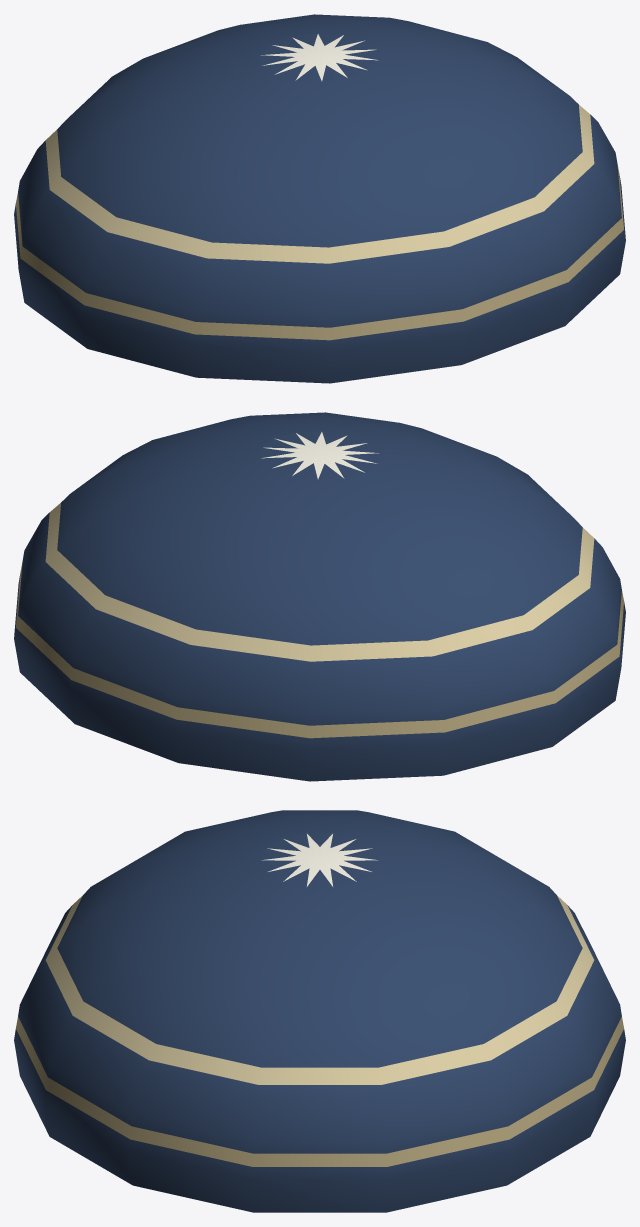
Rendered from kipaa.fbx.
The picture shows the model from 3 angles, top to bottom: view 1: azimuth 30°, elevation 25°; view 2: azimuth 150°, elevation 25°; view 3: azimuth 270°, elevation 25°; orthographic projection. The views are drawn at different scales.
Parts seen in each view (by area): view 1: Sphere; view 2: Sphere; view 3: Sphere.
Part boxes in pixels (x1,y1,x2,y2): Sphere: [14, 14, 625, 383]; Sphere: [14, 412, 625, 781]; Sphere: [14, 810, 625, 1212].
Bounding box in the file's own units: 111 × 40.71 × 103.
